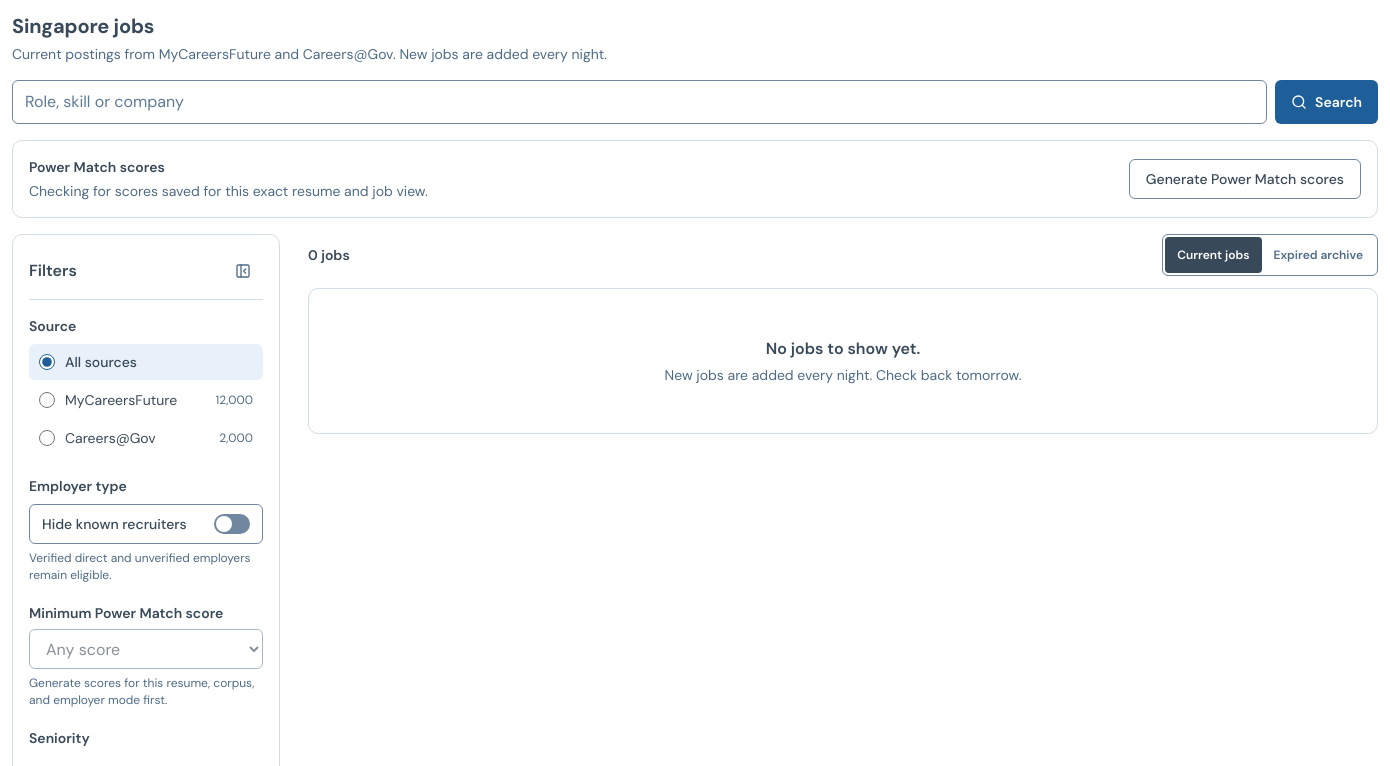
Test: ScraperTab source filter › loads the expired archive with evidence and no application actions
Step 1. Click the button "Expired archive" → (1318, 255), box [1262,237,1375,273]
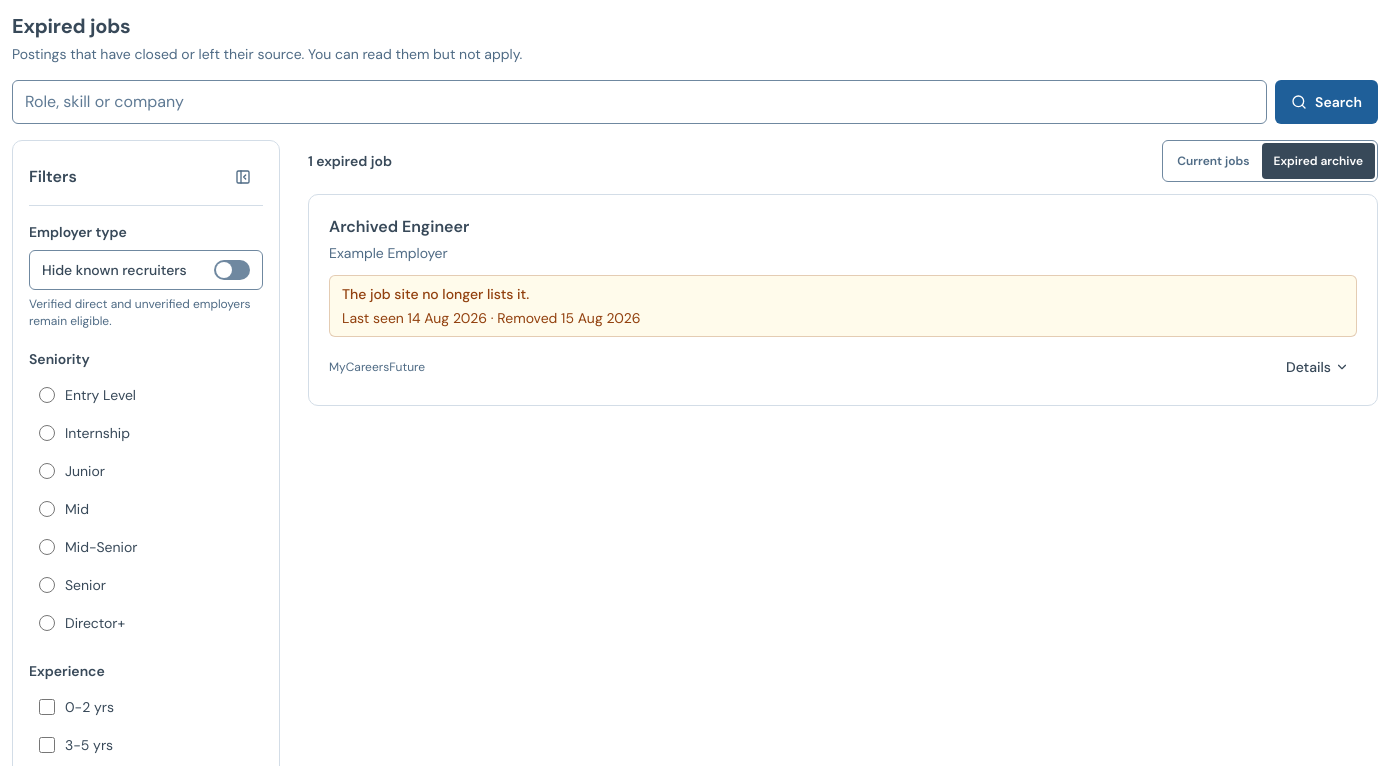
Check: the text "1 expired job" is shown, box [308,152,392,170]
Check: the text "The job site no longer lists it." is shown, box [342,285,529,303]
Check: the text "Last seen 14 Aug 2026" is shown, box [342,309,487,327]
